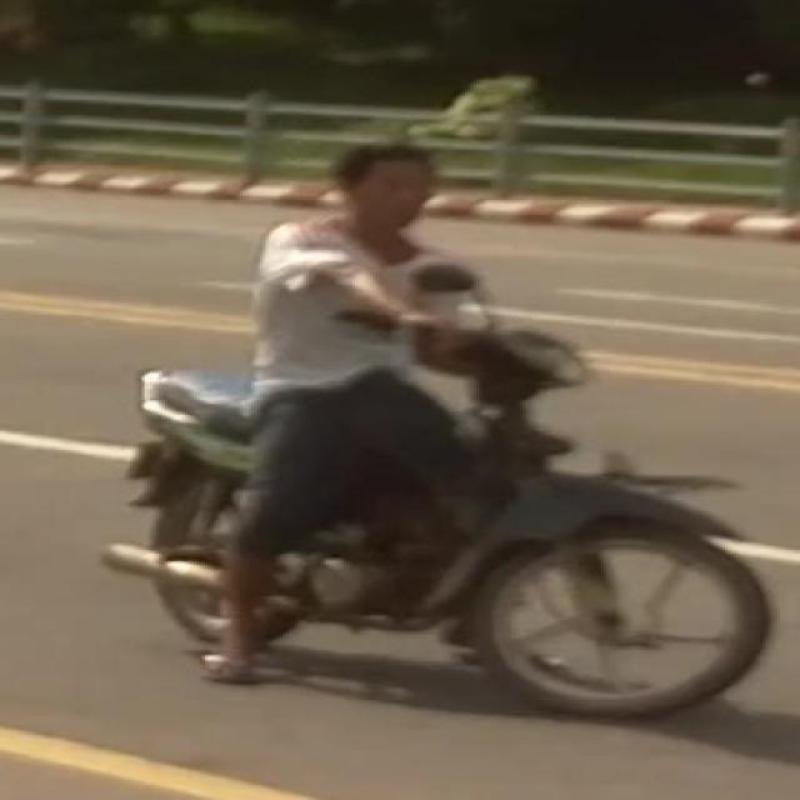nohelmet: (294, 119, 447, 253)
